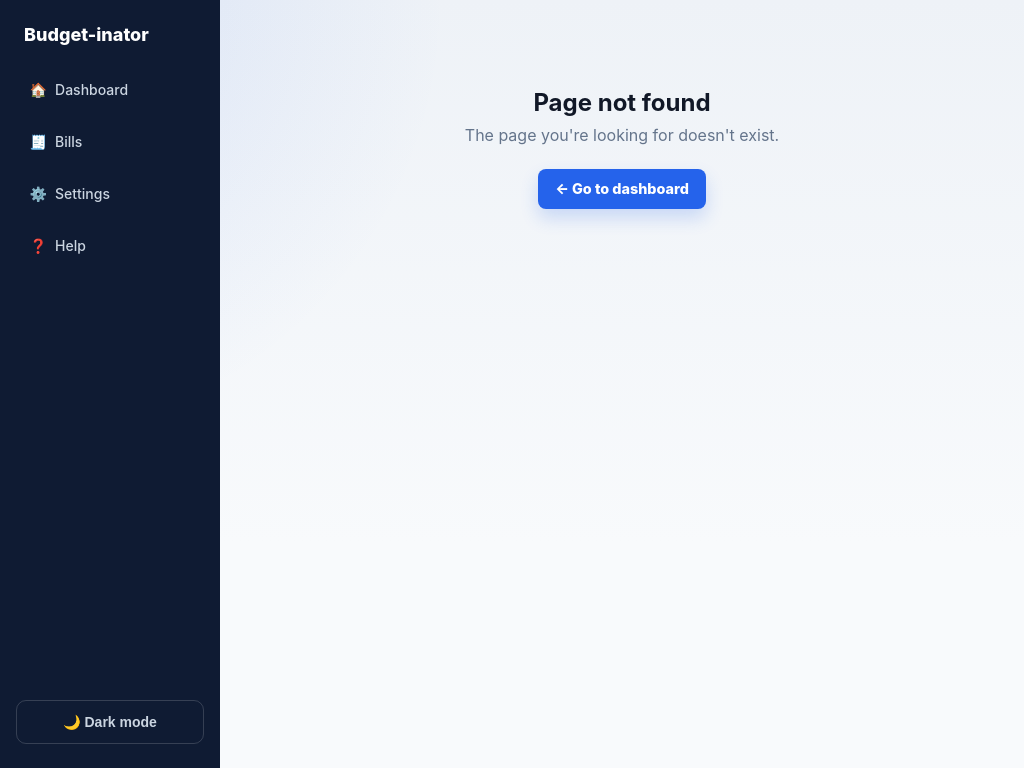
App › navigates back to the dashboard from the not-found page
Expected: the heading "Page not found" is shown, [533,88,711,117]
Click the link "← Go to dashboard" at (622, 189), box [538,169,706,209]
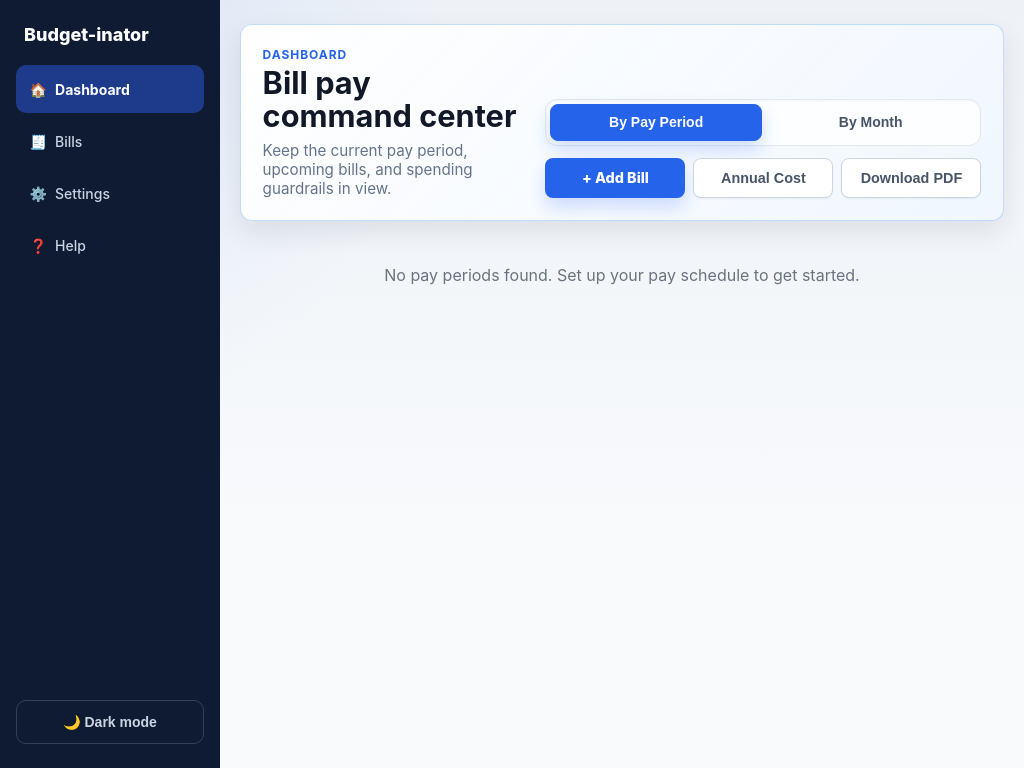
Expected: the heading "Page not found" is gone
